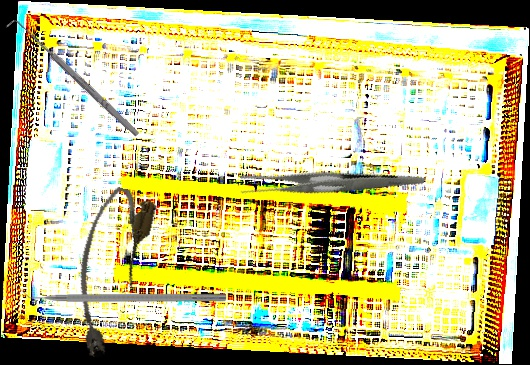Cannula: (56, 182, 160, 363)
Chopper: (15, 282, 227, 302)
Dressing Forceps: (235, 125, 426, 244)
Hook Surgical: (4, 13, 143, 144)
